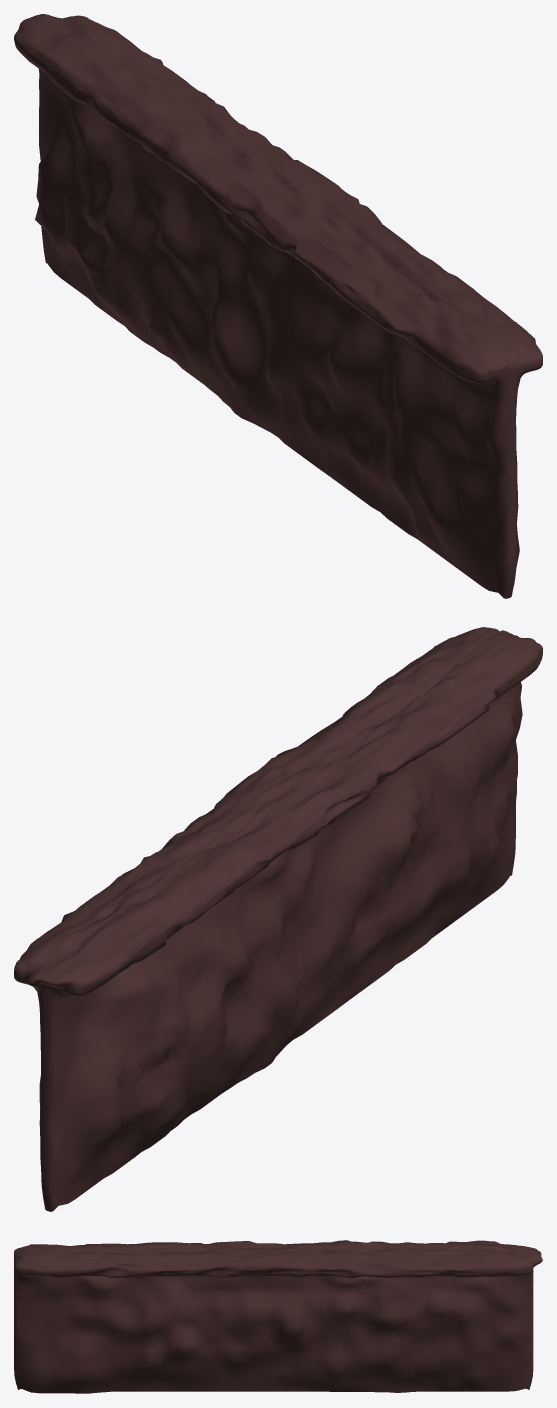
The model's file is Piso Rails.fbx.
The picture shows the model from 3 angles, top to bottom: view 1: azimuth 30°, elevation 25°; view 2: azimuth 150°, elevation 25°; view 3: azimuth 270°, elevation 25°; orthographic projection. The views are drawn at different scales.
Parts seen in each view (by area): view 1: pCube1; view 2: pCube1; view 3: pCube1.
Part boxes in pixels (x1,y1,x2,y2): pCube1: (14, 14, 542, 598); pCube1: (14, 627, 542, 1211); pCube1: (14, 1240, 542, 1393).
Bounding box in the file's own units: 3.6 × 8.68 × 29.64.
